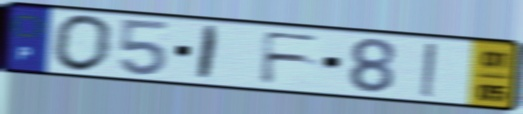5: (118, 18, 173, 78)
8: (346, 36, 399, 96)
F: (258, 30, 325, 86)
I: (193, 23, 223, 83), (418, 40, 438, 100)
O: (51, 12, 117, 74)
